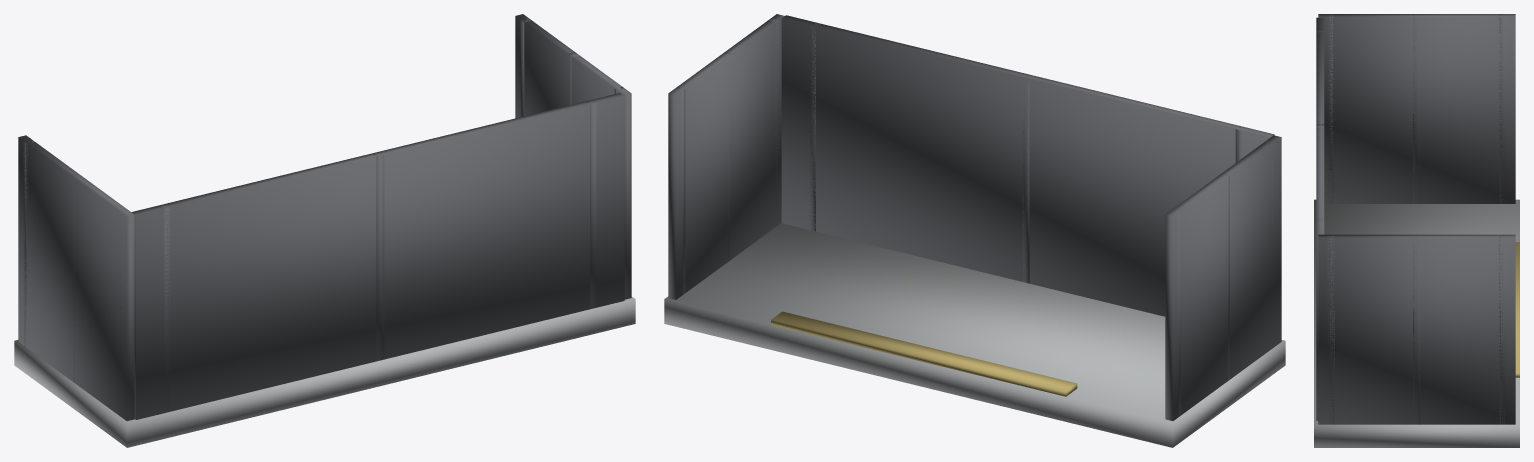
The model's file is floor_w260_d100_three.glb.
3 views of the same model, side by side, from view 1: azimuth 30°, elevation 25°; view 2: azimuth 150°, elevation 25°; view 3: azimuth 270°, elevation 25° (orthographic). The views are drawn at different scales.
Parts seen in each view (by area): view 1: world; view 2: world; view 3: world.
Part boxes in pixels (left/top/right/bottom): world: left=14, top=14, right=635, bottom=447; world: left=664, top=14, right=1285, bottom=447; world: left=1314, top=14, right=1519, bottom=447.
Bounding box in the file's own units: 2.6 × 1.12 × 1.
